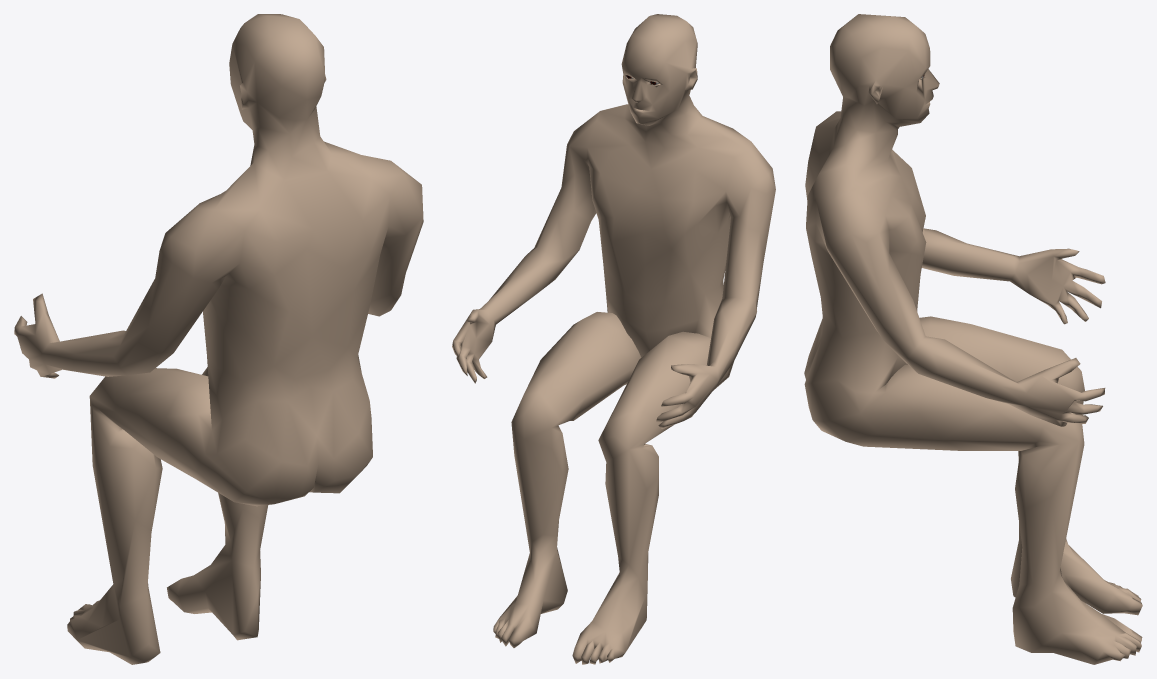
File: seated_passenger_far.glb
3 views of the same model, side by side, from view 1: azimuth 30°, elevation 25°; view 2: azimuth 150°, elevation 25°; view 3: azimuth 270°, elevation 25° (orthographic). The views are drawn at different scales.
Visible parts, largest first — view 1: Body.001; view 2: Body.001; view 3: Body.001.
Boxes of the visible parts, x1,y1,x2,y2 form: Body.001: (14,14,423,664); Body.001: (452,14,775,664); Body.001: (804,14,1142,664).
Bounding box in the file's own units: 0.647 × 1.39 × 0.6943.
Materials: 2 (1 with a texture image).
